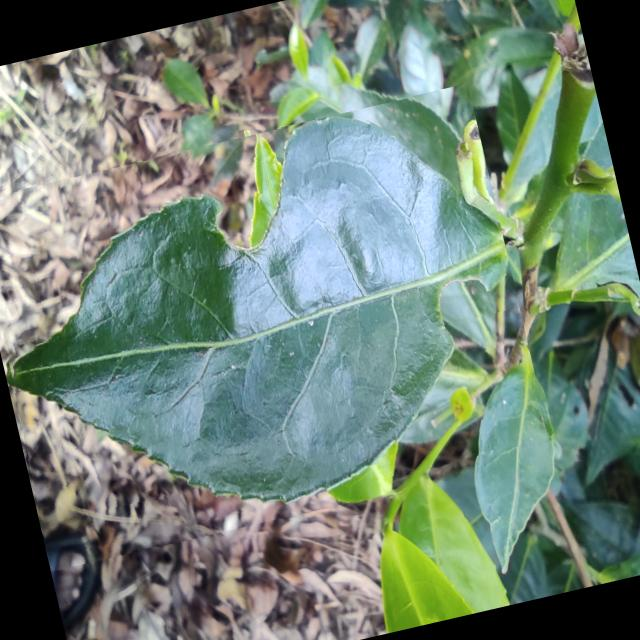Category D(7+ days, Not for Tea): (0, 83, 552, 571)
